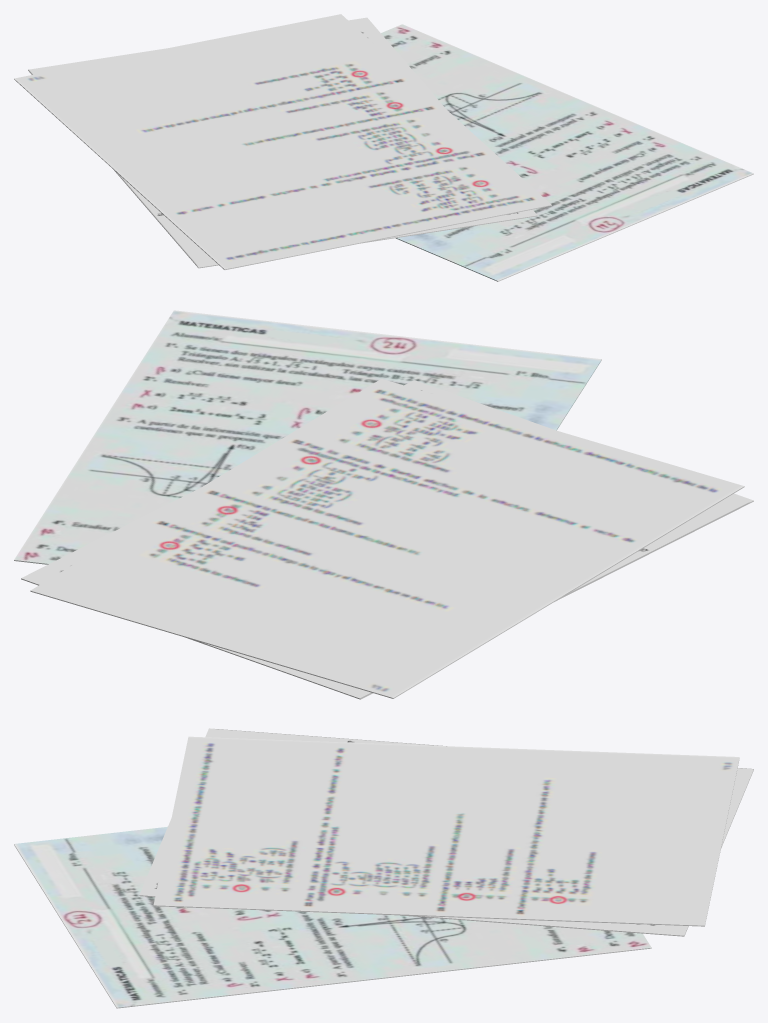
File: Papers.FBX
3 renders of one model, top to bottom at view 1: azimuth 30°, elevation 25°; view 2: azimuth 150°, elevation 25°; view 3: azimuth 270°, elevation 25°, orthographic. The views are drawn at different scales.
Parts seen in each view (by area): view 1: papers; view 2: papers; view 3: papers.
Part boxes in pixels (x1,y1,x2,y2): papers: (14, 14, 753, 281); papers: (14, 310, 753, 699); papers: (14, 728, 753, 1008).
Bounding box in the file's own units: 34.52 × 0.1561 × 38.77.
